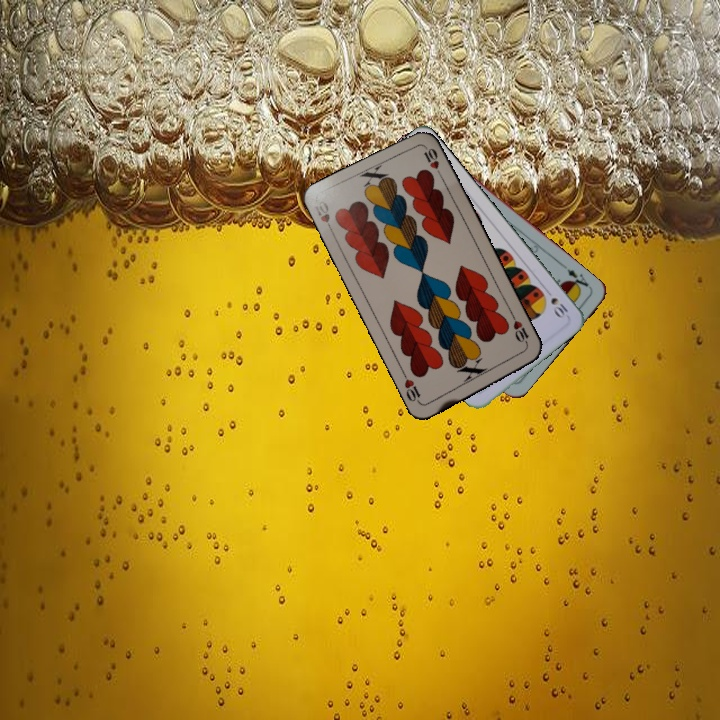EA: (559, 261, 593, 293)
H10: (309, 197, 337, 236), (508, 311, 531, 349)
S10: (547, 293, 571, 321)
